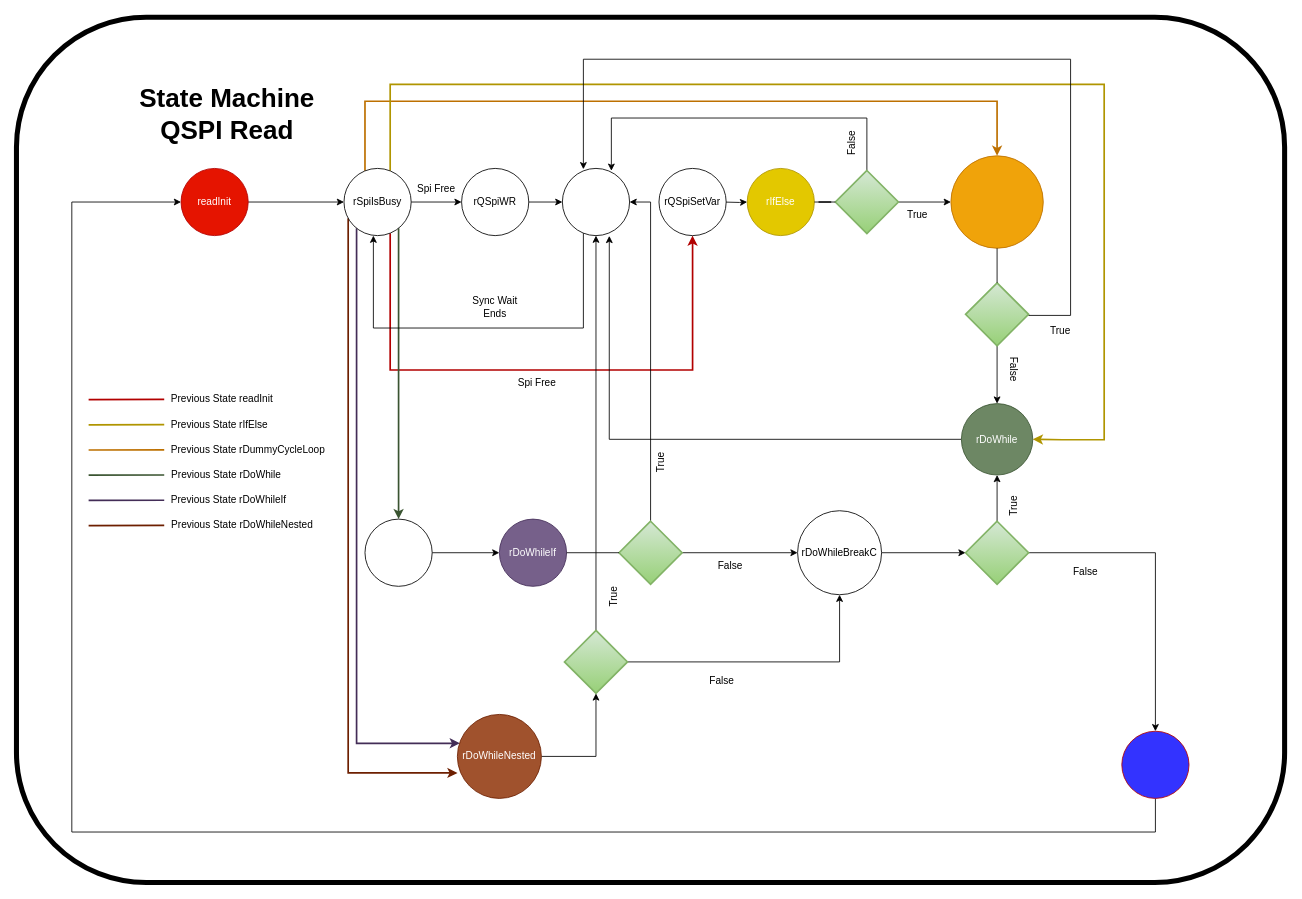
This 1302x899 diagram has some shape labels left out. The shapes that lost their labels are listed below. From the top down, each one's centre as x and y in pixels, then its label:
[596,202]: rQSpiW8
[996,201]: rDummyCycleLoop
[398,552]: rDoWhile2
[1155,764]: readEnd
